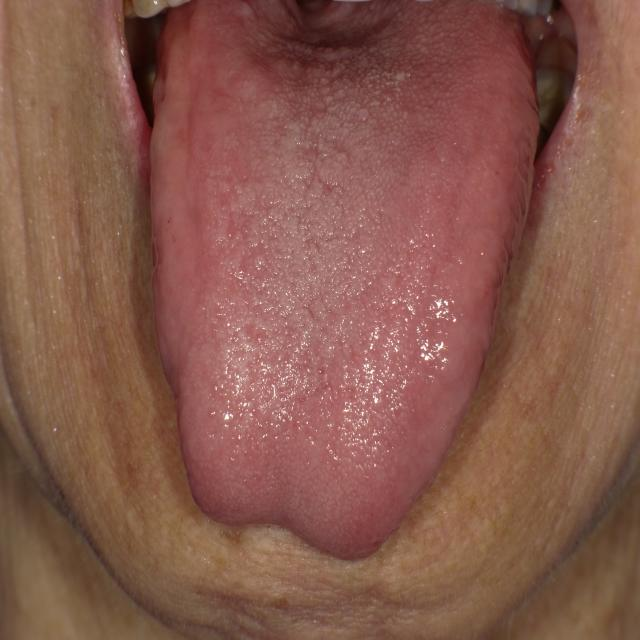baitaishe: (150, 1, 542, 560)
shenquao: (234, 1, 411, 64)
xinfeiao: (211, 483, 339, 560)
